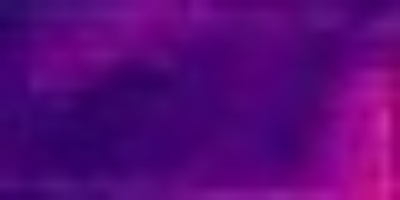Shadow: (1, 1, 328, 197), (328, 1, 400, 67)
